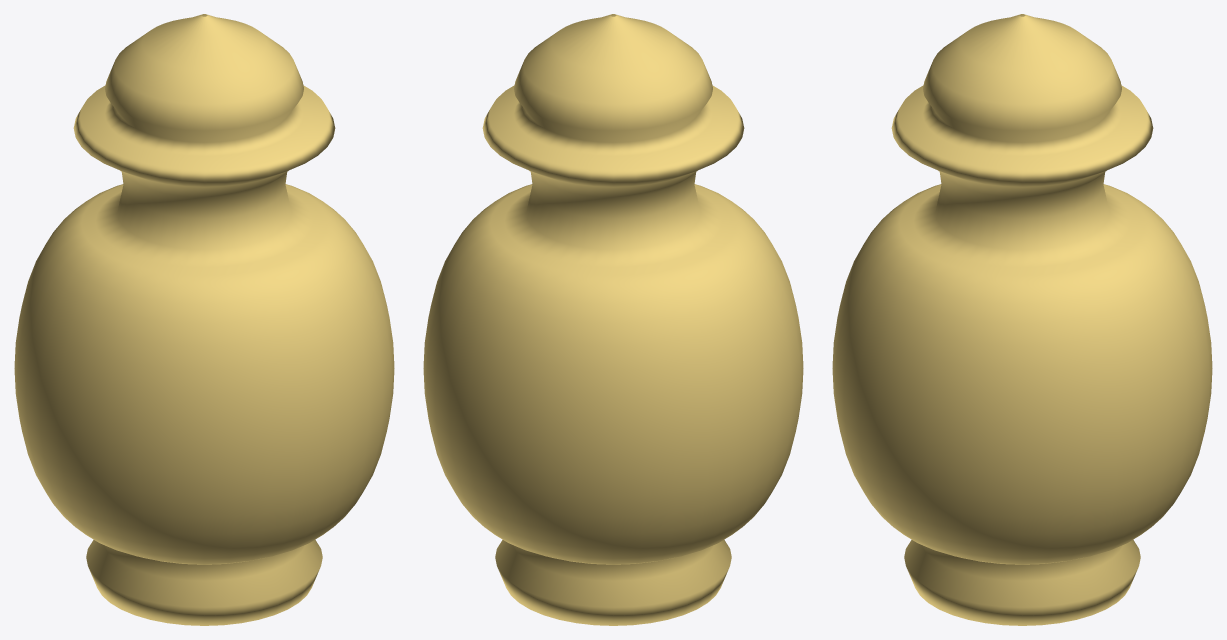
The model's file is kalash.glb.
3 renders of one model, left to right at view 1: azimuth 30°, elevation 25°; view 2: azimuth 150°, elevation 25°; view 3: azimuth 270°, elevation 25°, orthographic.
Visible parts, largest first — view 1: TraditionalBrass_Kalash; view 2: TraditionalBrass_Kalash; view 3: TraditionalBrass_Kalash.
Part boxes in pixels (x1=…): TraditionalBrass_Kalash: x1=14, y1=14, x2=394, y2=625; TraditionalBrass_Kalash: x1=423, y1=14, x2=803, y2=625; TraditionalBrass_Kalash: x1=832, y1=14, x2=1212, y2=625.
Size of the model in its own units: 0.122 by 0.2 by 0.122.
